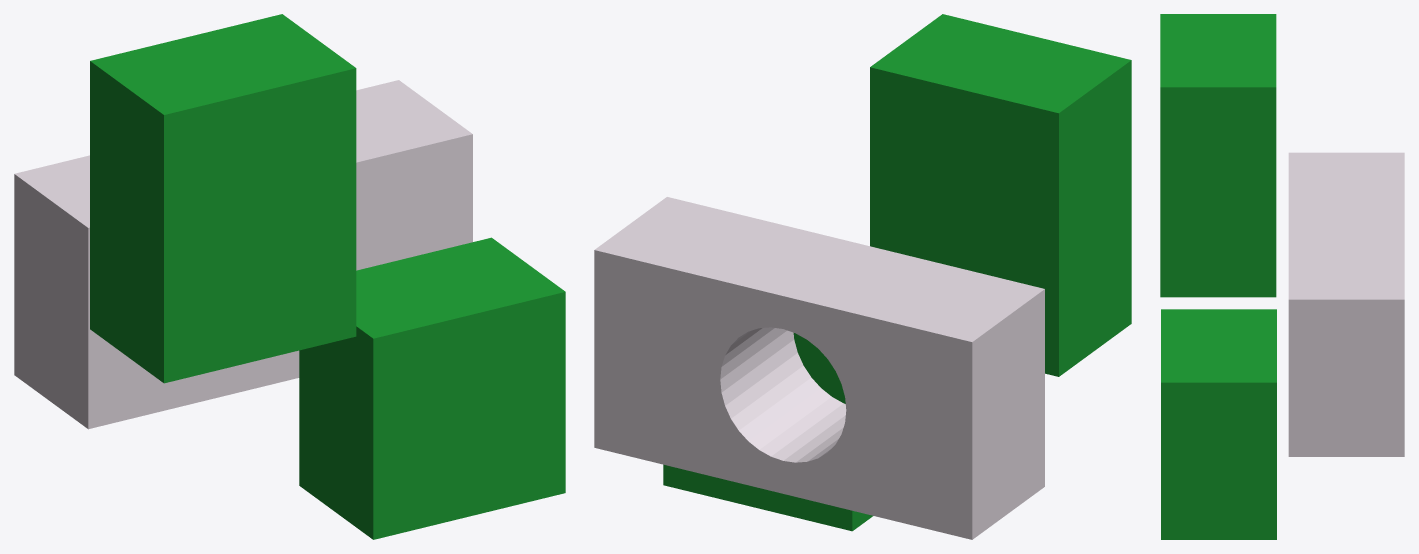
Rendered from Equilibrio.fbx.
3 renders of one model, left to right at view 1: azimuth 30°, elevation 25°; view 2: azimuth 150°, elevation 25°; view 3: azimuth 270°, elevation 25°, orthographic. The views are drawn at different scales.
Parts seen in each view (by area): view 1: Cube.003; view 2: Cube.003; view 3: Cube.003.
Boxes of the visible parts, x1=… form: Cube.003: x1=14, y1=14, x2=565, y2=539; Cube.003: x1=594, y1=14, x2=1131, y2=539; Cube.003: x1=1160, y1=14, x2=1404, y2=539.
Size of the model in its own units: 627 by 710 by 422.
